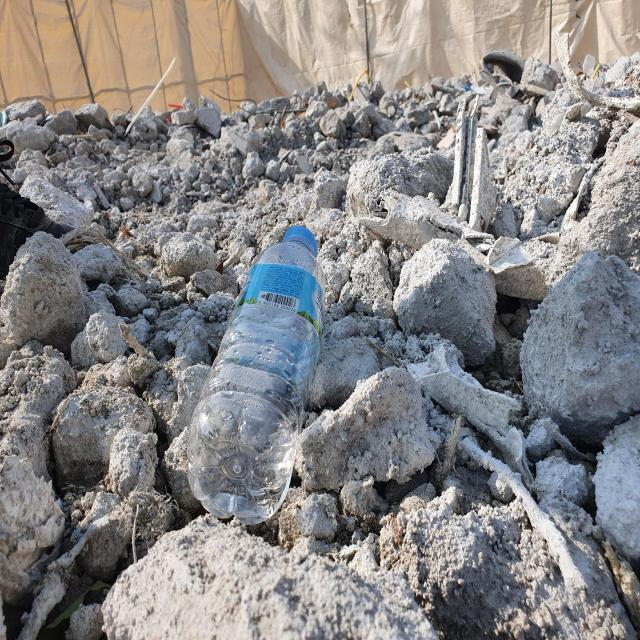plastic: (187, 225, 325, 525)
